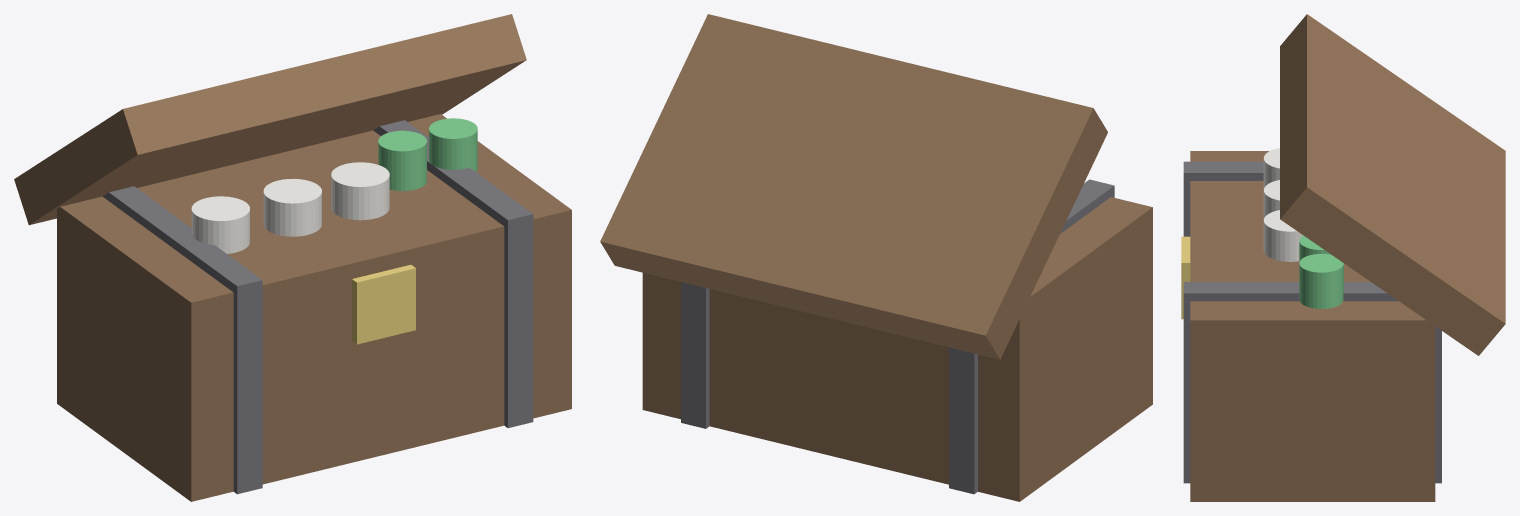
File: medicine_chest.glb
3 views of the same model, side by side, from view 1: azimuth 30°, elevation 25°; view 2: azimuth 150°, elevation 25°; view 3: azimuth 270°, elevation 25° (orthographic). The views are drawn at different scales.
Parts seen in each view (by area): view 1: Cube, Cube.004, Cube.001, Cube.002, Cube.003, Cylinder.002, Cylinder.001, Cylinder, Cylinder.003, Cylinder.004; view 2: Cube.004, Cube, Cube.001, Cube.002; view 3: Cube, Cube.004, Cube.002, Cylinder.004, Cube.001, Cylinder.002, Cube.003, Cylinder, Cylinder.001, Cylinder.003.
Part boxes in pixels (bbox=[...]): Cube: bbox=[57, 114, 571, 501]; Cube.004: bbox=[14, 14, 526, 225]; Cube.001: bbox=[102, 186, 262, 494]; Cube.002: bbox=[373, 120, 533, 427]; Cube.003: bbox=[352, 264, 415, 344]; Cylinder.002: bbox=[331, 162, 389, 220]; Cylinder.001: bbox=[263, 178, 321, 236]; Cylinder: bbox=[191, 196, 249, 253]; Cylinder.003: bbox=[378, 130, 426, 191]; Cylinder.004: bbox=[429, 118, 477, 171]; Cube.004: bbox=[600, 14, 1107, 359]; Cube: bbox=[642, 197, 1152, 501]; Cube.001: bbox=[949, 179, 1114, 494]; Cube.002: bbox=[681, 282, 709, 428]; Cube: bbox=[1190, 151, 1435, 501]; Cube.004: bbox=[1280, 14, 1505, 355]; Cube.002: bbox=[1183, 282, 1441, 483]; Cylinder.004: bbox=[1299, 254, 1343, 308]; Cube.001: bbox=[1183, 161, 1263, 236]; Cylinder.002: bbox=[1263, 210, 1302, 261]; Cube.003: bbox=[1181, 236, 1190, 319]; Cylinder: bbox=[1263, 148, 1279, 188]; Cylinder.001: bbox=[1263, 180, 1279, 219]; Cylinder.003: bbox=[1299, 235, 1330, 262].
Bounding box in the file's own units: 0.92 × 0.7843 × 0.7282.
